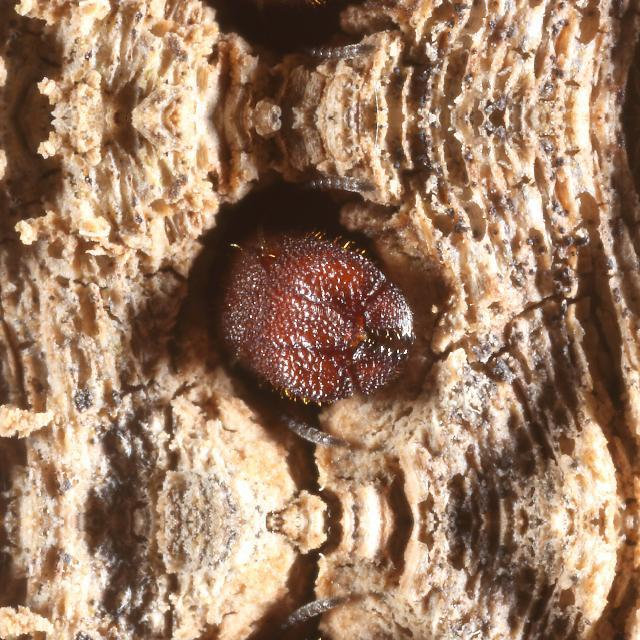Colobopsis: (167, 141, 465, 485), (167, 0, 465, 92), (167, 558, 465, 640)
